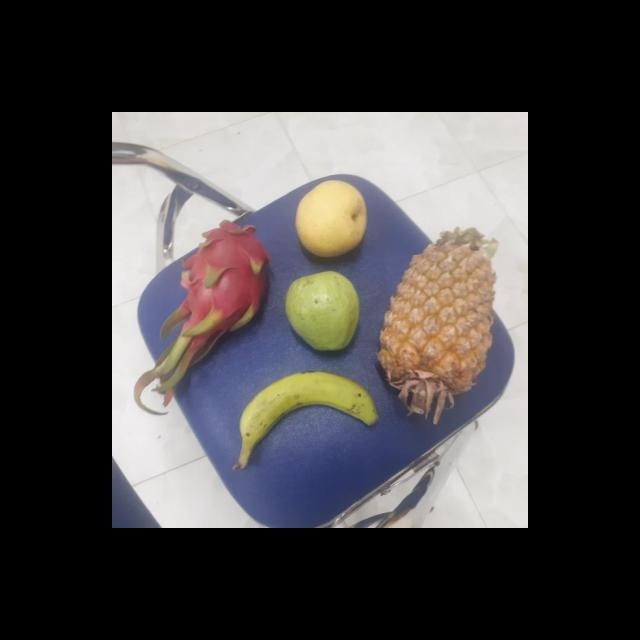banana: (234, 370, 372, 454)
guava: (282, 272, 359, 352)
pear: (291, 177, 371, 258)
pineapple: (378, 233, 494, 408)
pitaya: (178, 220, 272, 332)
